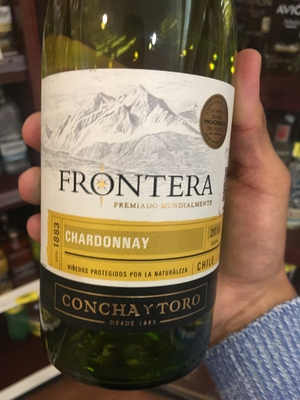frontera chardonnay: (32, 21, 235, 377)
